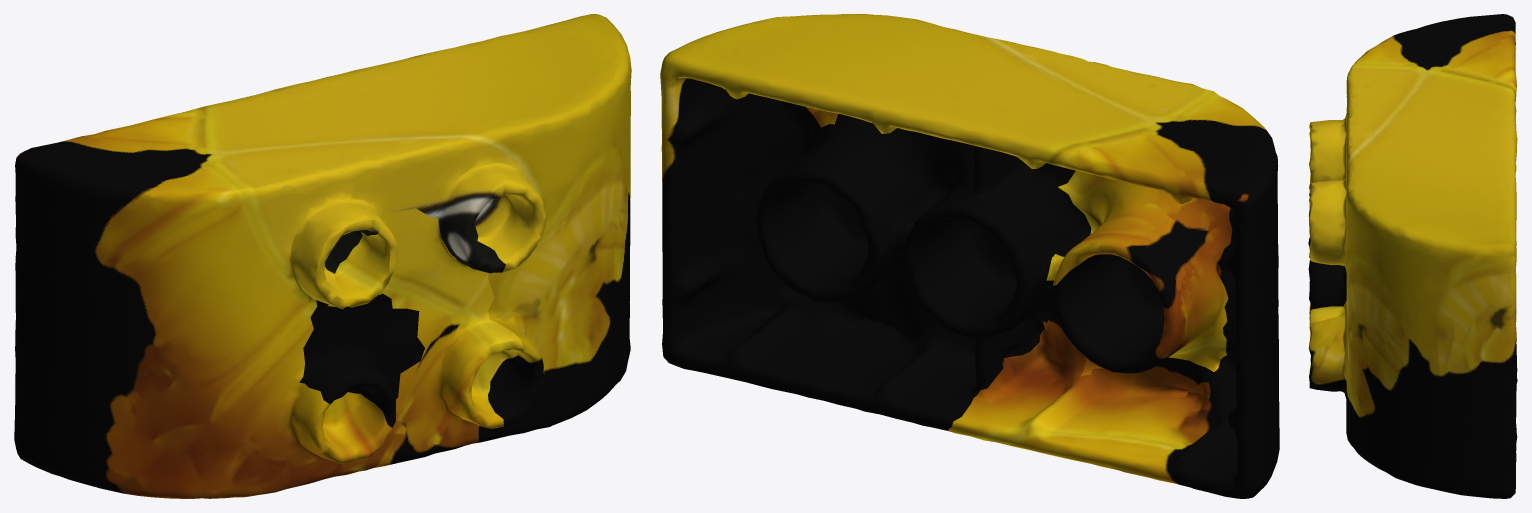
3 renders of one model, left to right at view 1: azimuth 30°, elevation 25°; view 2: azimuth 150°, elevation 25°; view 3: azimuth 270°, elevation 25°, orthographic. The views are drawn at different scales.
Bounding box in the file's own units: 0.0641 × 0.0325 × 0.0239.
